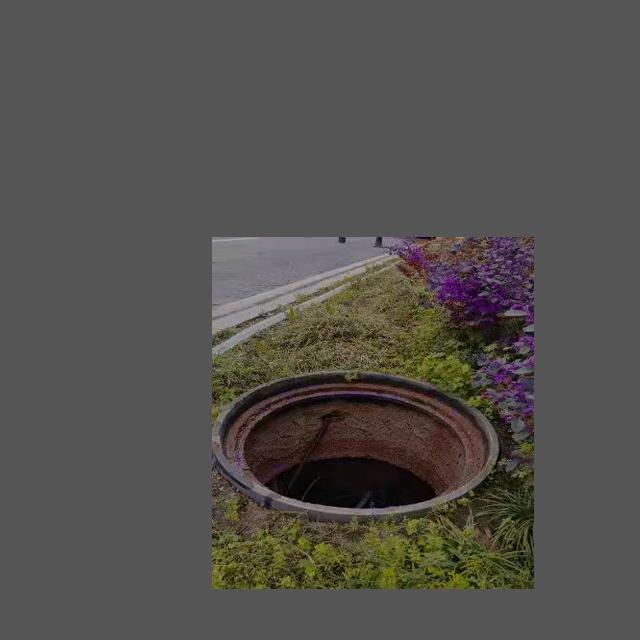lose: (216, 357, 513, 518)
